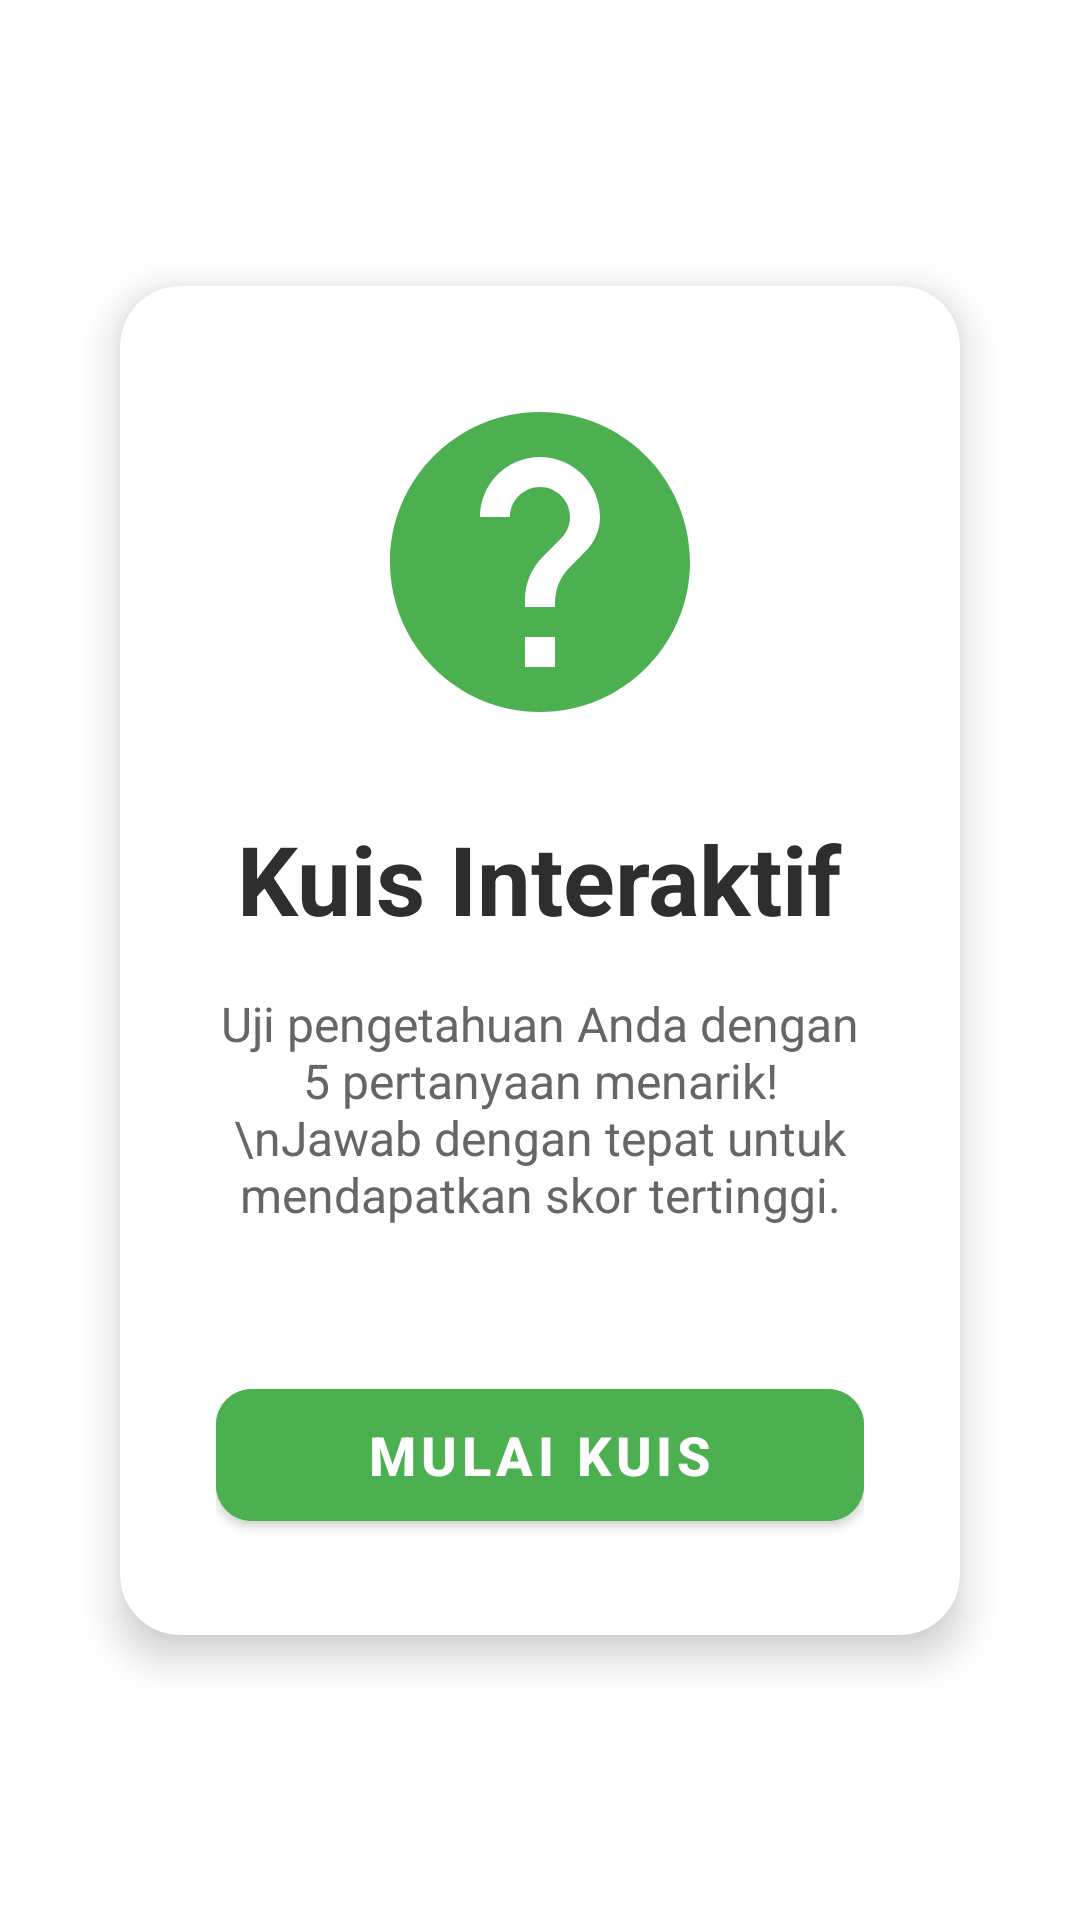

Icons on this 1080px x 1920px Android screen, each with its box as (x1, y1, x2, y2):
Quiz Icon: (390, 412, 690, 712)
